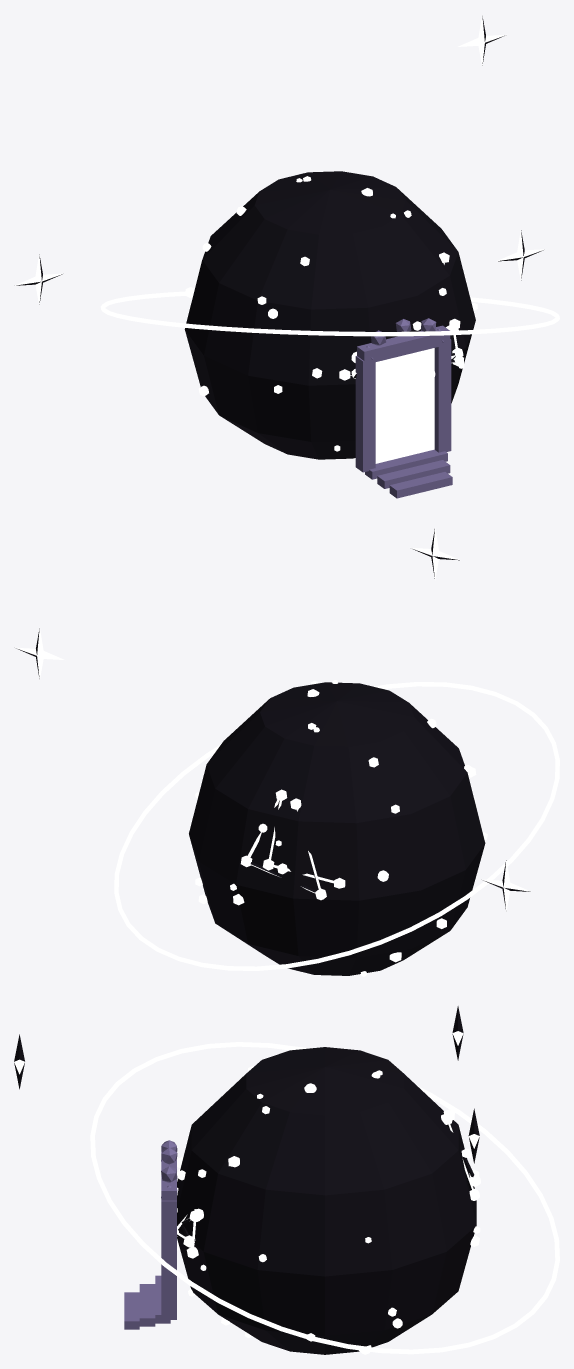
The model's file is fruto-vazio.glb.
3 views of the same model, one above another, from view 1: azimuth 30°, elevation 25°; view 2: azimuth 150°, elevation 25°; view 3: azimuth 270°, elevation 25° (orthographic). The views are drawn at different scales.
Visible parts, largest first — view 1: Fruit_Body; view 2: Fruit_Body; view 3: Fruit_Body.
Boxes of the visible parts, bbox=[...] form: Fruit_Body: bbox=[14, 15, 559, 498]; Fruit_Body: bbox=[14, 527, 559, 976]; Fruit_Body: bbox=[14, 1006, 559, 1354].
Size of the model in its own units: 1.98 by 1.2 by 1.76.
